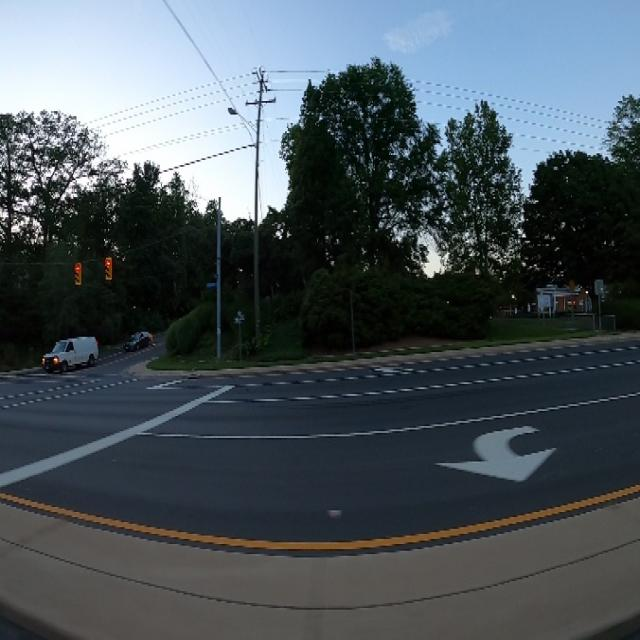Cars: (125, 330, 155, 348)
Jeep: (47, 336, 100, 368)
